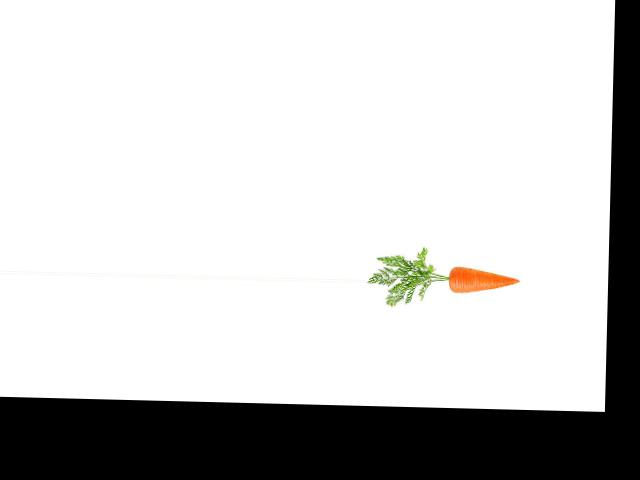carrot: (445, 258, 521, 301)
